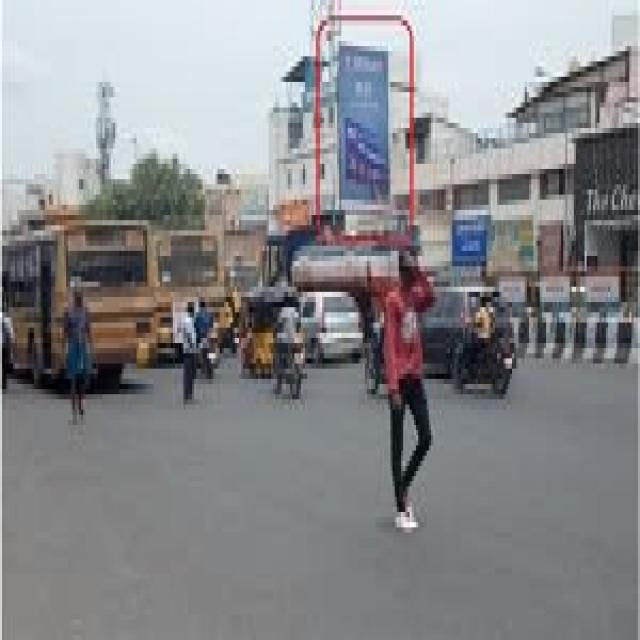Werbetafel frei: (340, 35, 393, 208)
